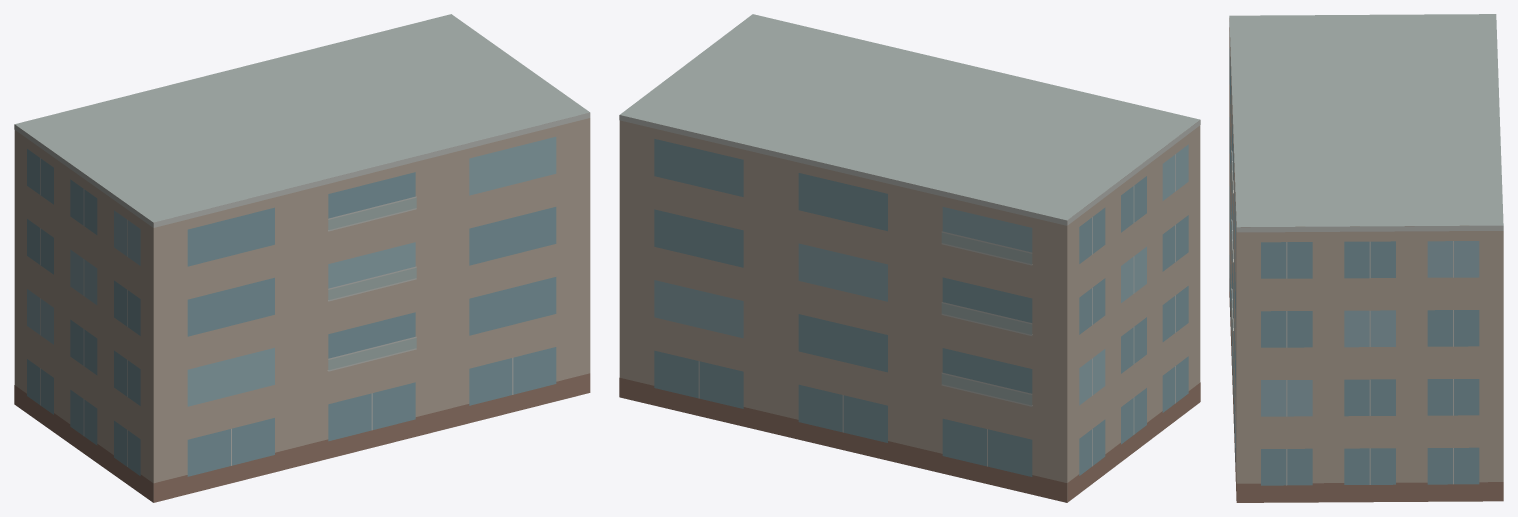
Rendered from survey-upis-32712426.glb.
3 renders of one model, left to right at view 1: azimuth 30°, elevation 25°; view 2: azimuth 150°, elevation 25°; view 3: azimuth 270°, elevation 25°, orthographic. The views are drawn at different scales.
Visible parts, largest first — view 1: survey-upis-32712426.tmp; view 2: survey-upis-32712426.tmp; view 3: survey-upis-32712426.tmp.
Part boxes in pixels (bbox=[...]): survey-upis-32712426.tmp: bbox=[14, 14, 590, 502]; survey-upis-32712426.tmp: bbox=[619, 14, 1200, 502]; survey-upis-32712426.tmp: bbox=[1229, 14, 1503, 502].
Size of the model in its own units: 21.06 by 12.7 by 11.46.
